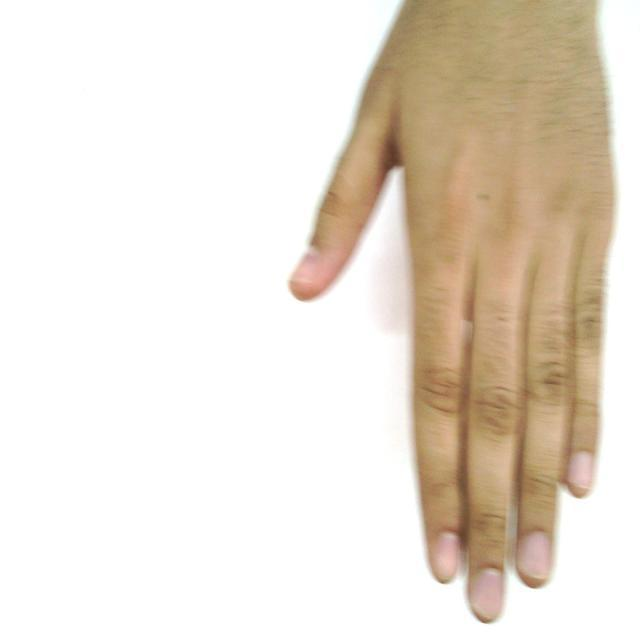Fingernail: (472, 570, 503, 621), (519, 533, 551, 580), (435, 533, 460, 581), (569, 452, 592, 488), (293, 253, 321, 282)
